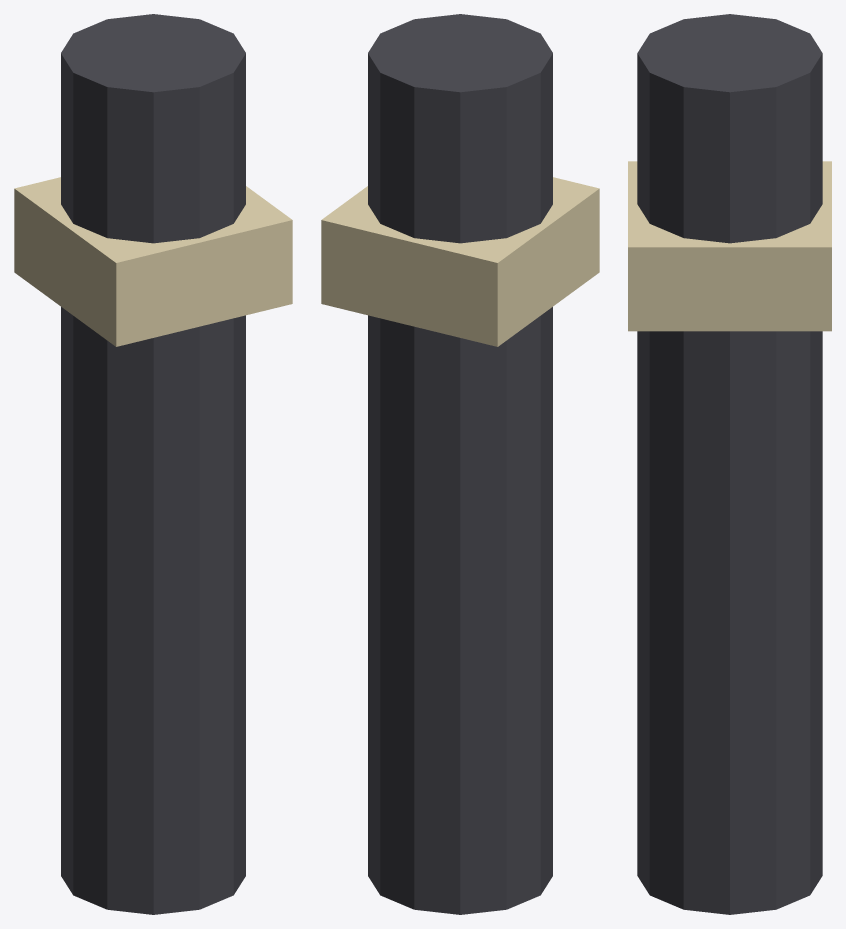
File: SM_K_Bollard.obj
3 views of the same model, side by side, from view 1: azimuth 30°, elevation 25°; view 2: azimuth 150°, elevation 25°; view 3: azimuth 270°, elevation 25° (orthographic).
Visible parts, largest first — view 1: SM_K_Bollard; view 2: SM_K_Bollard; view 3: SM_K_Bollard.
Boxes of the visible parts, x1=… form: SM_K_Bollard: x1=14, y1=14, x2=292, y2=914; SM_K_Bollard: x1=321, y1=14, x2=599, y2=914; SM_K_Bollard: x1=628, y1=14, x2=831, y2=914.
Size of the model in its own units: 0.22 by 0.98 by 0.22.
